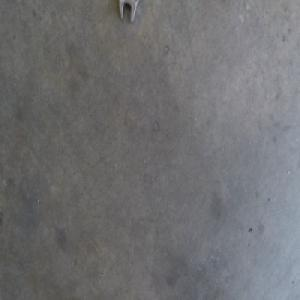Wrench: (118, 0, 139, 22)
